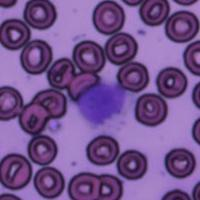L: (76, 80, 130, 128)
